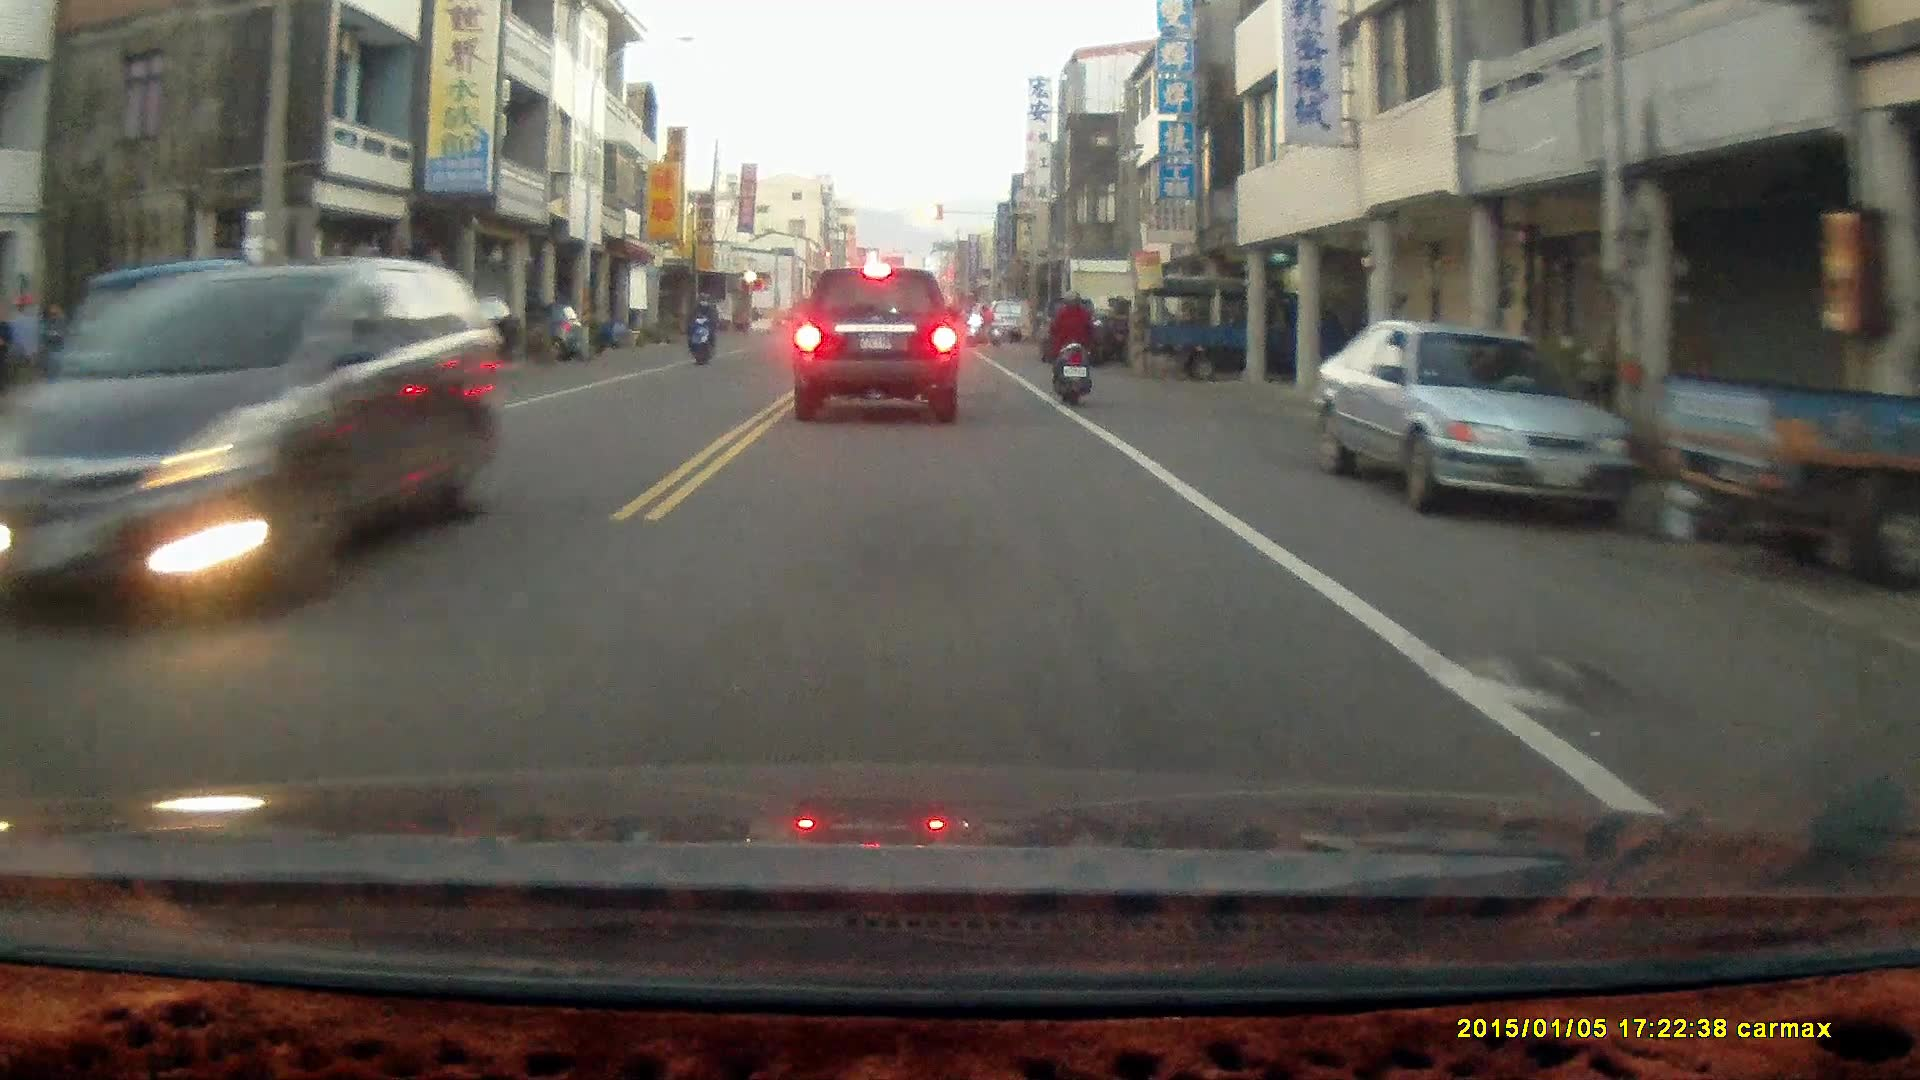pedestrian: (5, 287, 38, 410), (40, 297, 69, 386)
rider: (1047, 287, 1096, 406), (684, 290, 719, 364), (964, 300, 1001, 346)
vehicle: (16, 253, 485, 624), (1652, 275, 1920, 593), (1313, 317, 1644, 529), (793, 261, 963, 427), (1141, 267, 1363, 375)
